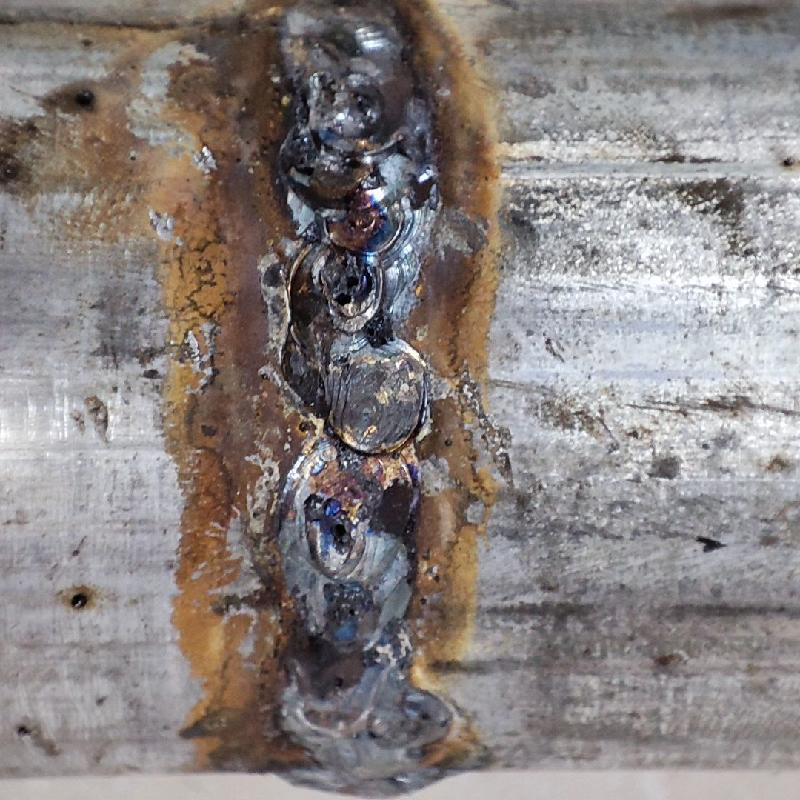Surface_pores: (313, 494, 362, 551), (329, 263, 378, 320)
crater: (272, 53, 433, 585)
